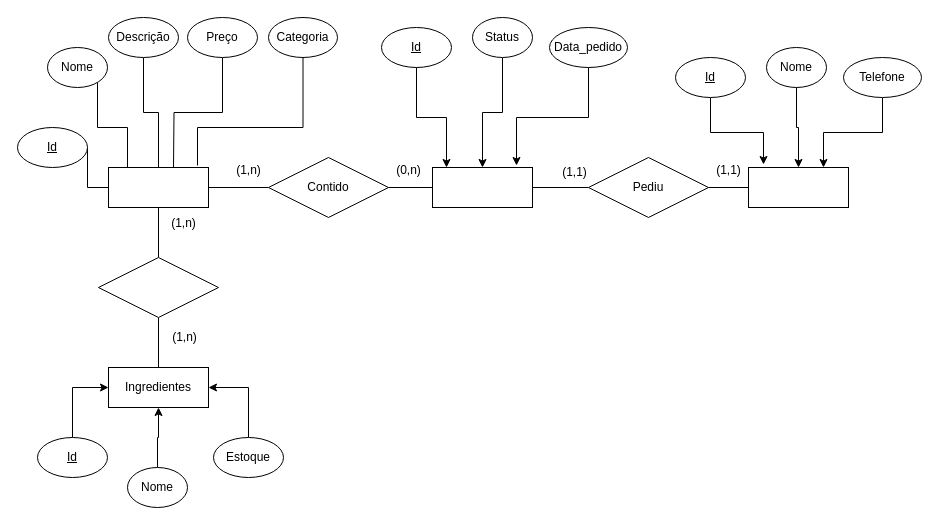
Image size: 939x525. Some labels were removed from this diagram. Here are the shapes that lost their labels. From the top down, the centre of each, then its label:
At [158,187]: "Pratos".
At [482,187]: "Pedido".
At [798,187]: "Clientes".
At [158,287]: "Contém".
